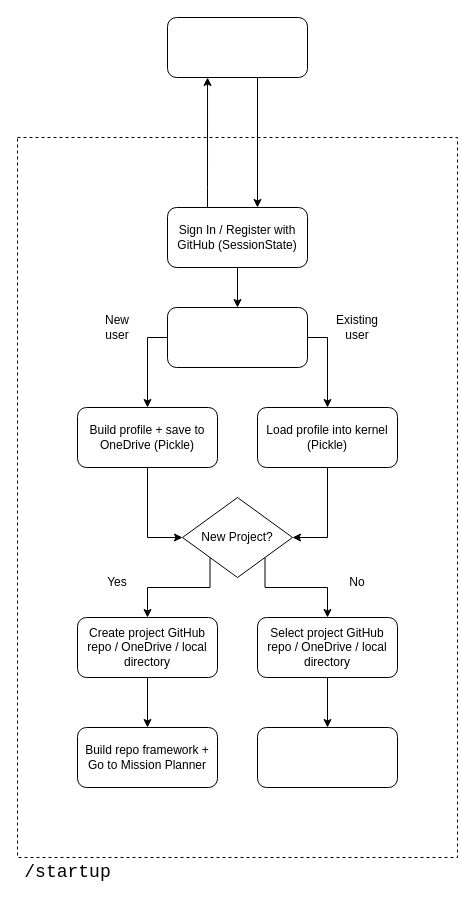
The diagram is 475 pixels wide and 905 high, and some of its shapes have lost their labels. Here are the shapes that lost their labels. From the top down, the box of each, then its label:
(166, 16, 308, 78): GitHub OAuth2 Login Portal (Auth0)
(166, 306, 308, 368): User lookup (OneDrive)
(256, 726, 398, 788): Load Rocket.rpy (Pickle)
